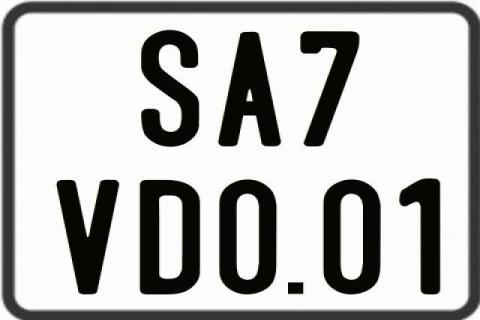0: (324, 180, 387, 300), (219, 180, 283, 298), (297, 31, 359, 150), (399, 177, 443, 297)
A: (217, 31, 284, 147)
D: (138, 178, 200, 294)
S: (141, 29, 200, 149)
V: (55, 179, 117, 295)
